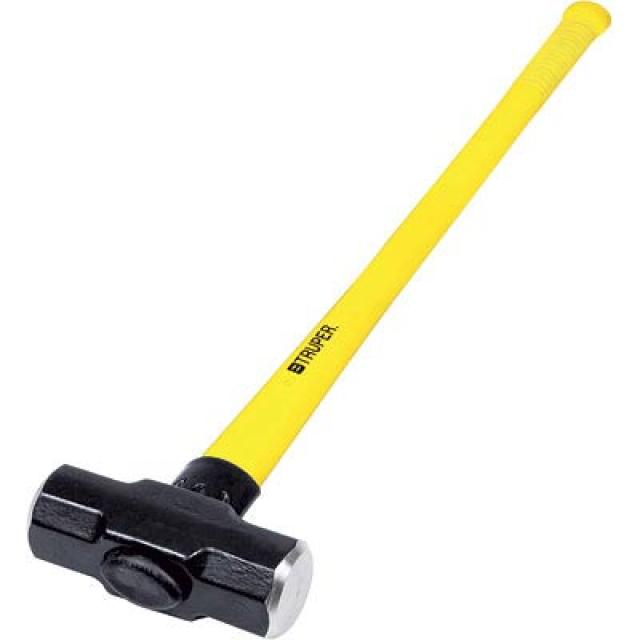hammer: (0, 127, 509, 640)
